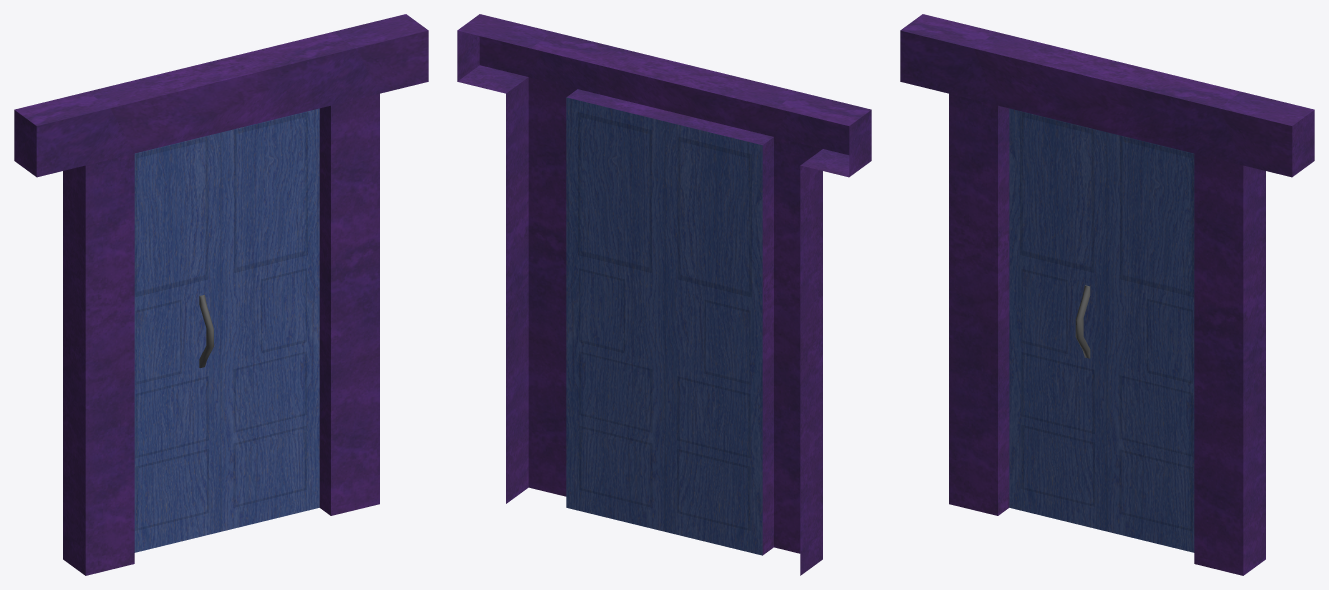
The model's file is Door1LOD.fbx.
3 views of the same model, side by side, from view 1: azimuth 30°, elevation 25°; view 2: azimuth 150°, elevation 25°; view 3: azimuth 330°, elevation 25° (orthographic).
Visible parts, largest first — view 1: Door1_LOD1; view 2: Door1_LOD1; view 3: Door1_LOD1.
Part boxes in pixels (x1,y1,x2,y2): Door1_LOD1: [14, 14, 428, 575]; Door1_LOD1: [457, 14, 871, 575]; Door1_LOD1: [900, 14, 1314, 575].
Size of the model in its own units: 200 by 225 by 20.
